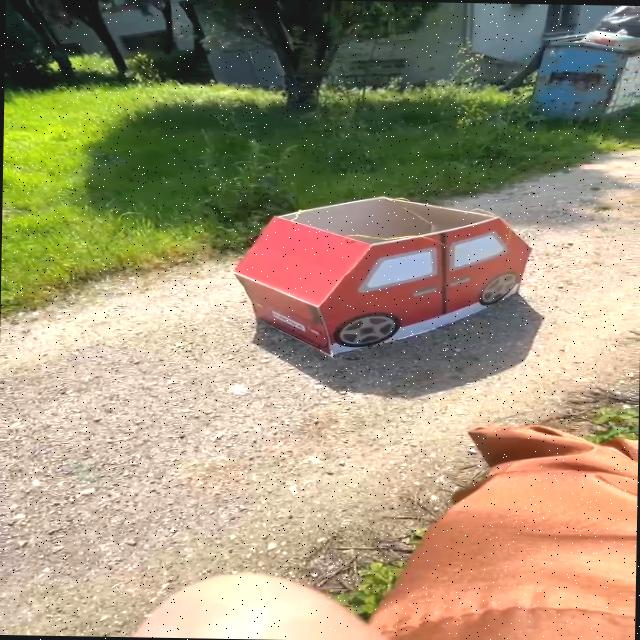red_car: (225, 188, 577, 374)
